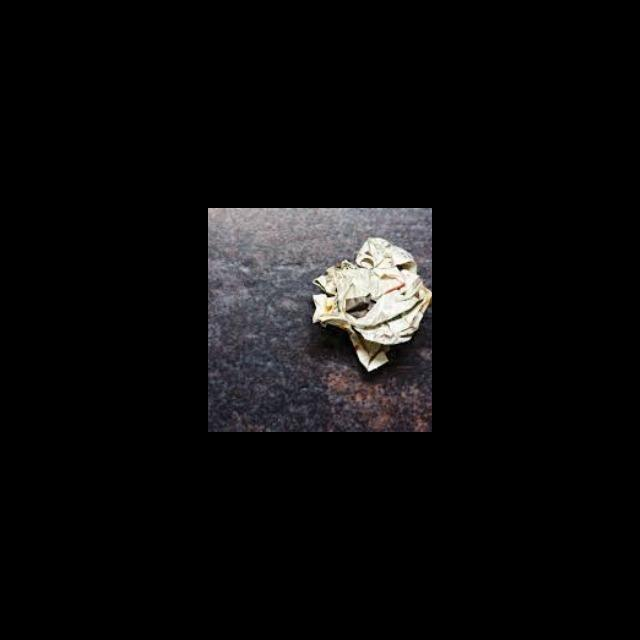paper: (309, 234, 432, 373)
